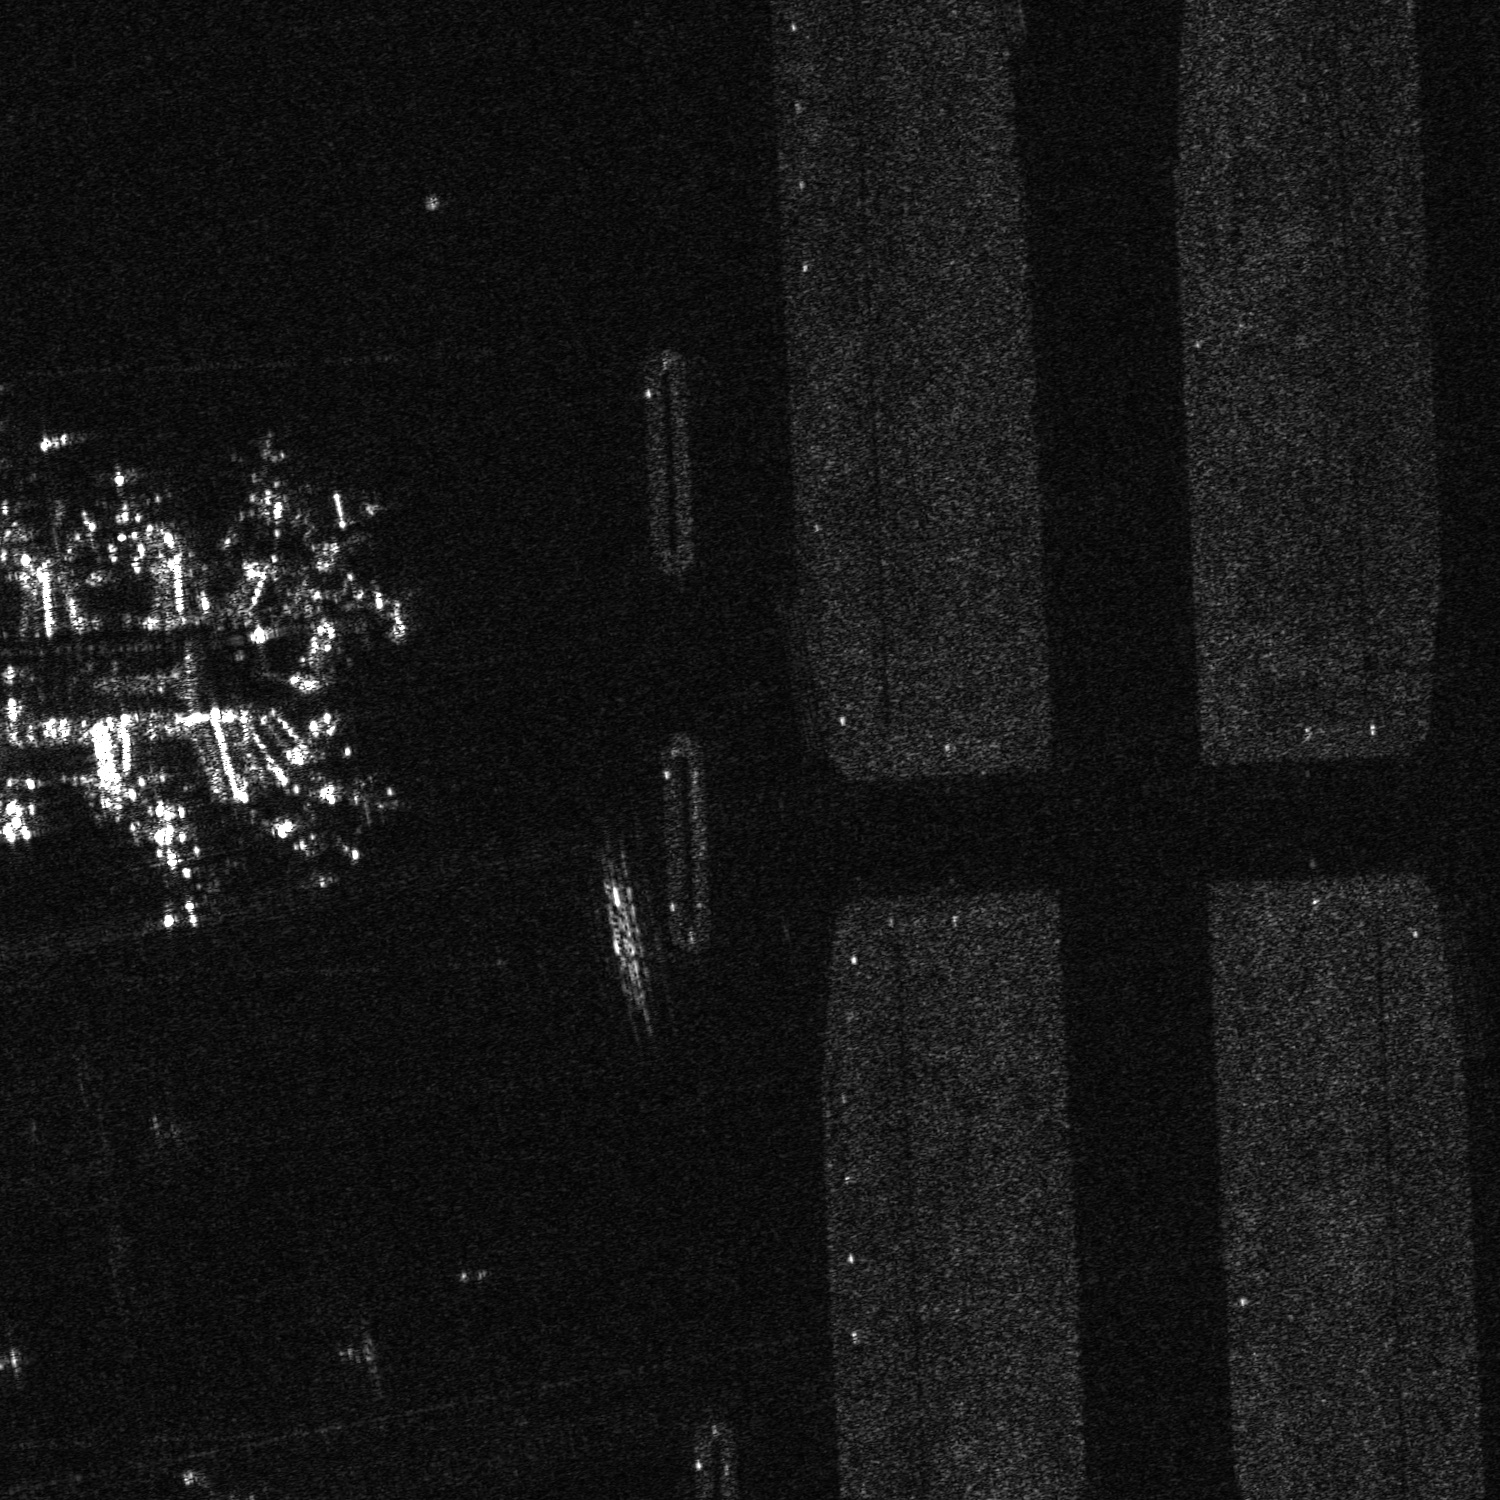A320/321: (113, 815, 229, 930), (216, 434, 328, 530), (76, 466, 168, 547), (308, 766, 412, 827)
Boeing737: (260, 812, 370, 875)
